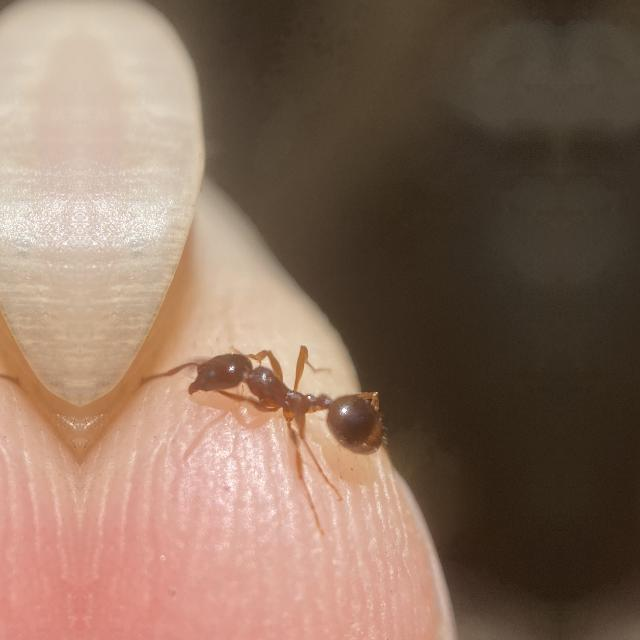Apheanogaster: (168, 303, 402, 497)
